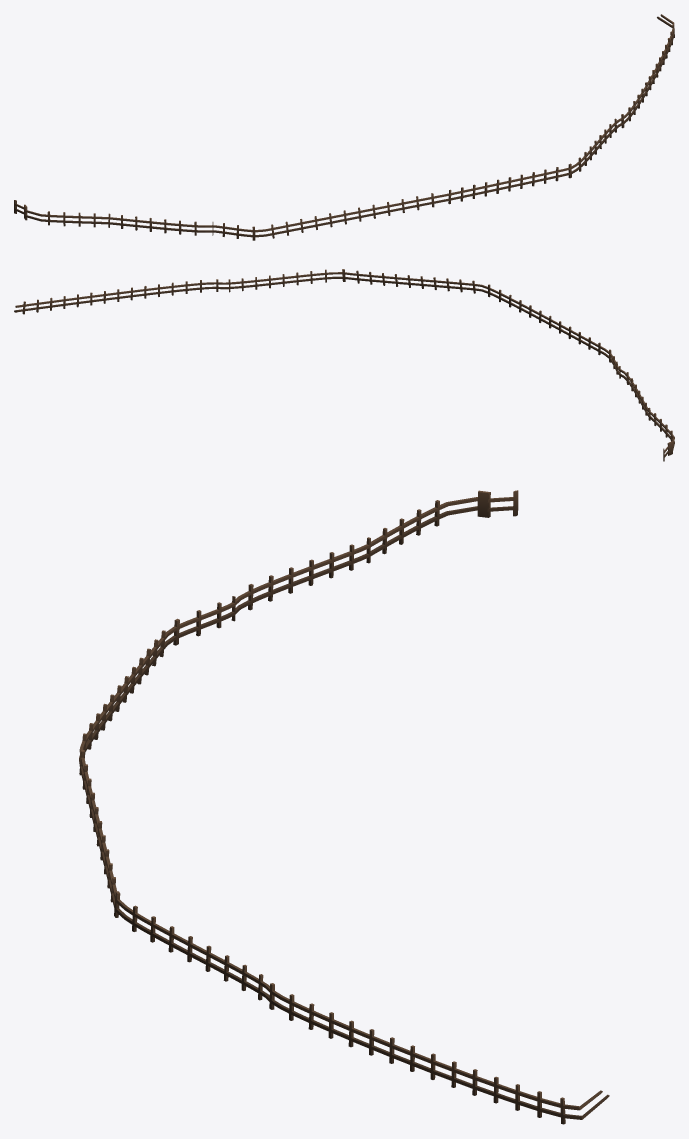
File: vallagranerocasa.fbx
The picture shows the model from 3 angles, top to bottom: view 1: azimuth 30°, elevation 25°; view 2: azimuth 150°, elevation 25°; view 3: azimuth 270°, elevation 25°; orthographic projection. The views are drawn at different scales.
Parts seen in each view (by area): view 1: Fance_boundary.001; view 2: Fance_boundary.001; view 3: Fance_boundary.001.
Part boxes in pixels (left/top/right/bottom): Fance_boundary.001: left=14, top=14, right=674, bottom=240; Fance_boundary.001: left=14, top=269, right=674, bottom=461; Fance_boundary.001: left=79, top=490, right=609, bottom=1124.
Size of the model in its own units: 5241 by 227 by 1901.
Materials: 1 (1 with a texture image).
